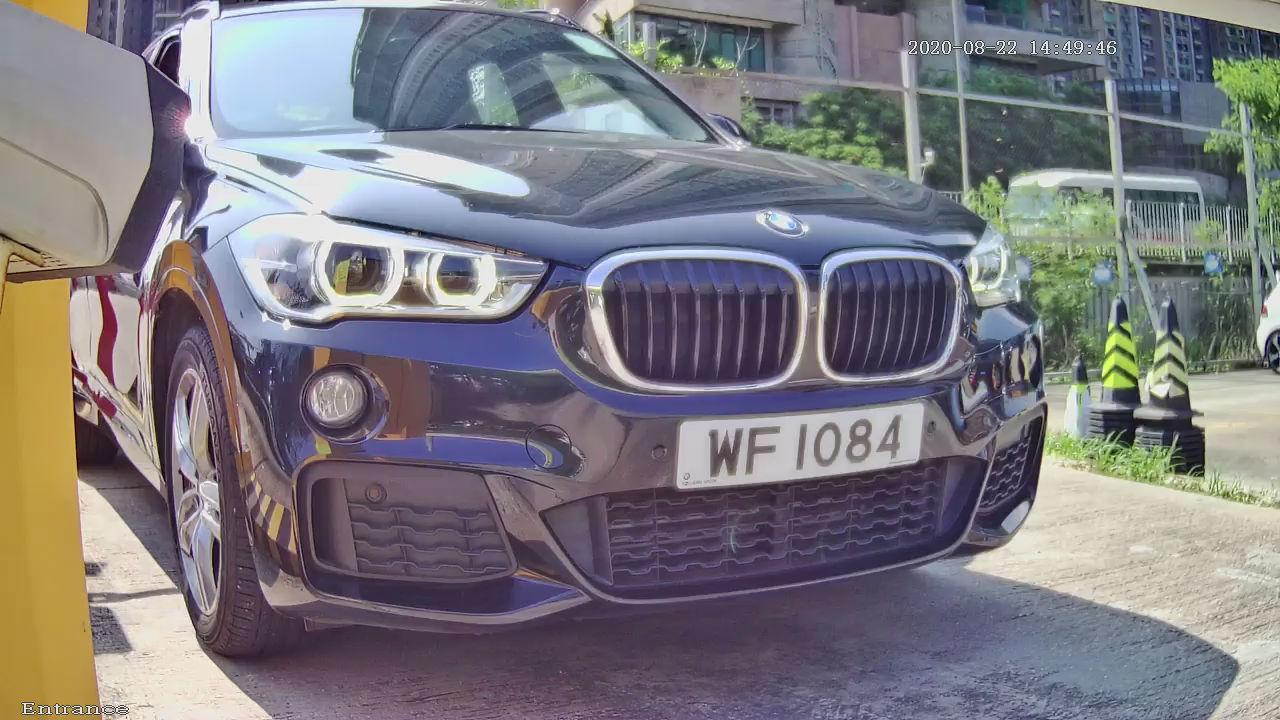Car: (35, 23, 1115, 685)
License Plate: (604, 353, 955, 515)
